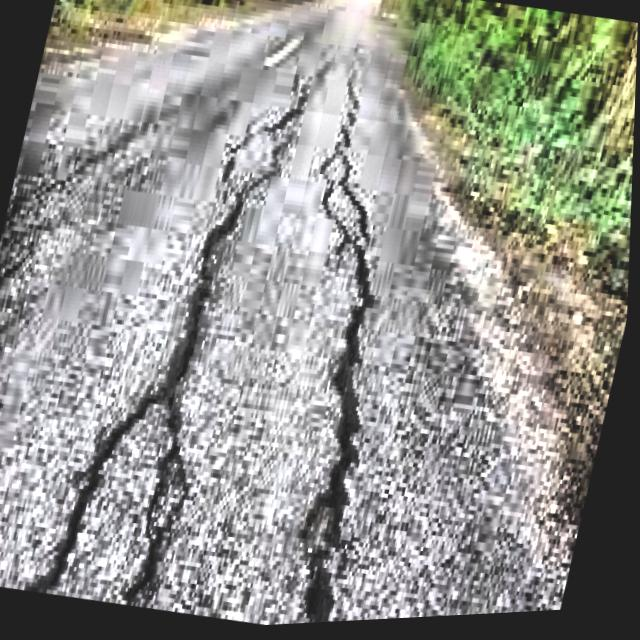cracks: (36, 193, 243, 593), (303, 151, 374, 622), (146, 415, 180, 574)
